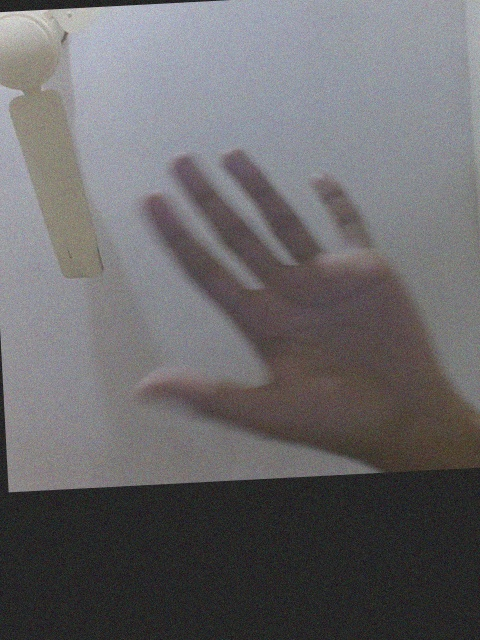hand: (125, 141, 462, 469)
